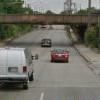Bridge: (3, 7, 100, 34)
